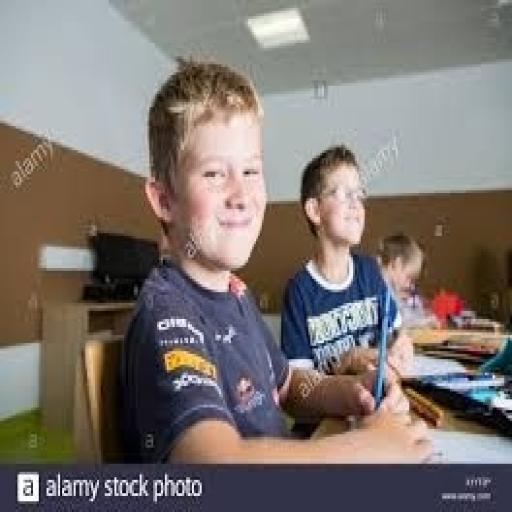sitting: (116, 56, 432, 464), (277, 142, 411, 418)
